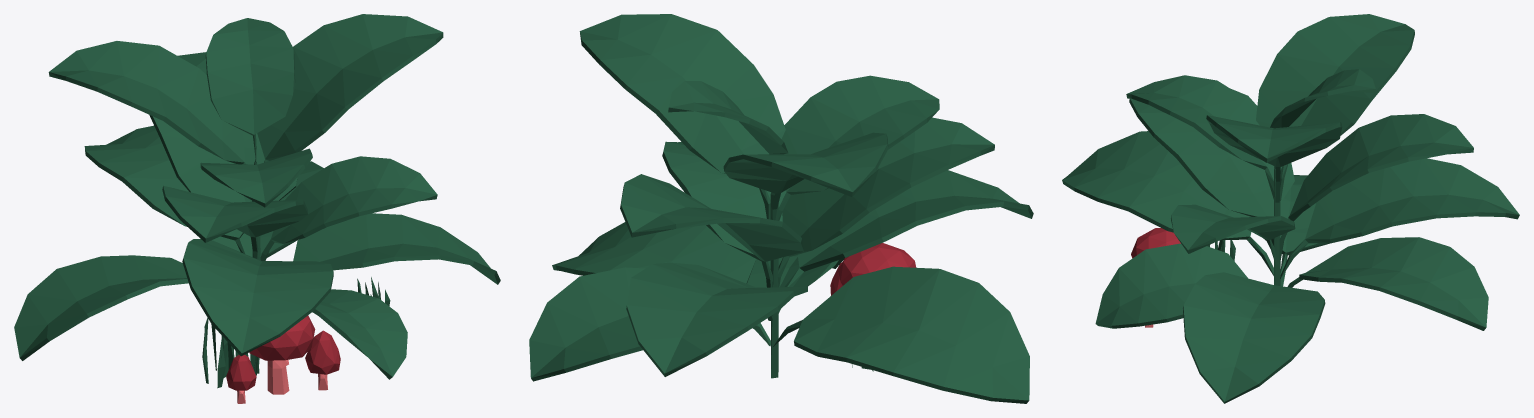
Rendered from Plant04.fbx.
3 views of the same model, side by side, from view 1: azimuth 30°, elevation 25°; view 2: azimuth 150°, elevation 25°; view 3: azimuth 270°, elevation 25° (orthographic). The views are drawn at different scales.
Parts seen in each view (by area): view 1: Plant_04; view 2: Plant_04; view 3: Plant_04.
Boxes of the visible parts, <box> form: Plant_04: <box>14,14,500,403</box>; Plant_04: <box>529,14,1033,403</box>; Plant_04: <box>1062,14,1519,403</box>.
Bounding box in the file's own units: 114 × 67.31 × 106.
